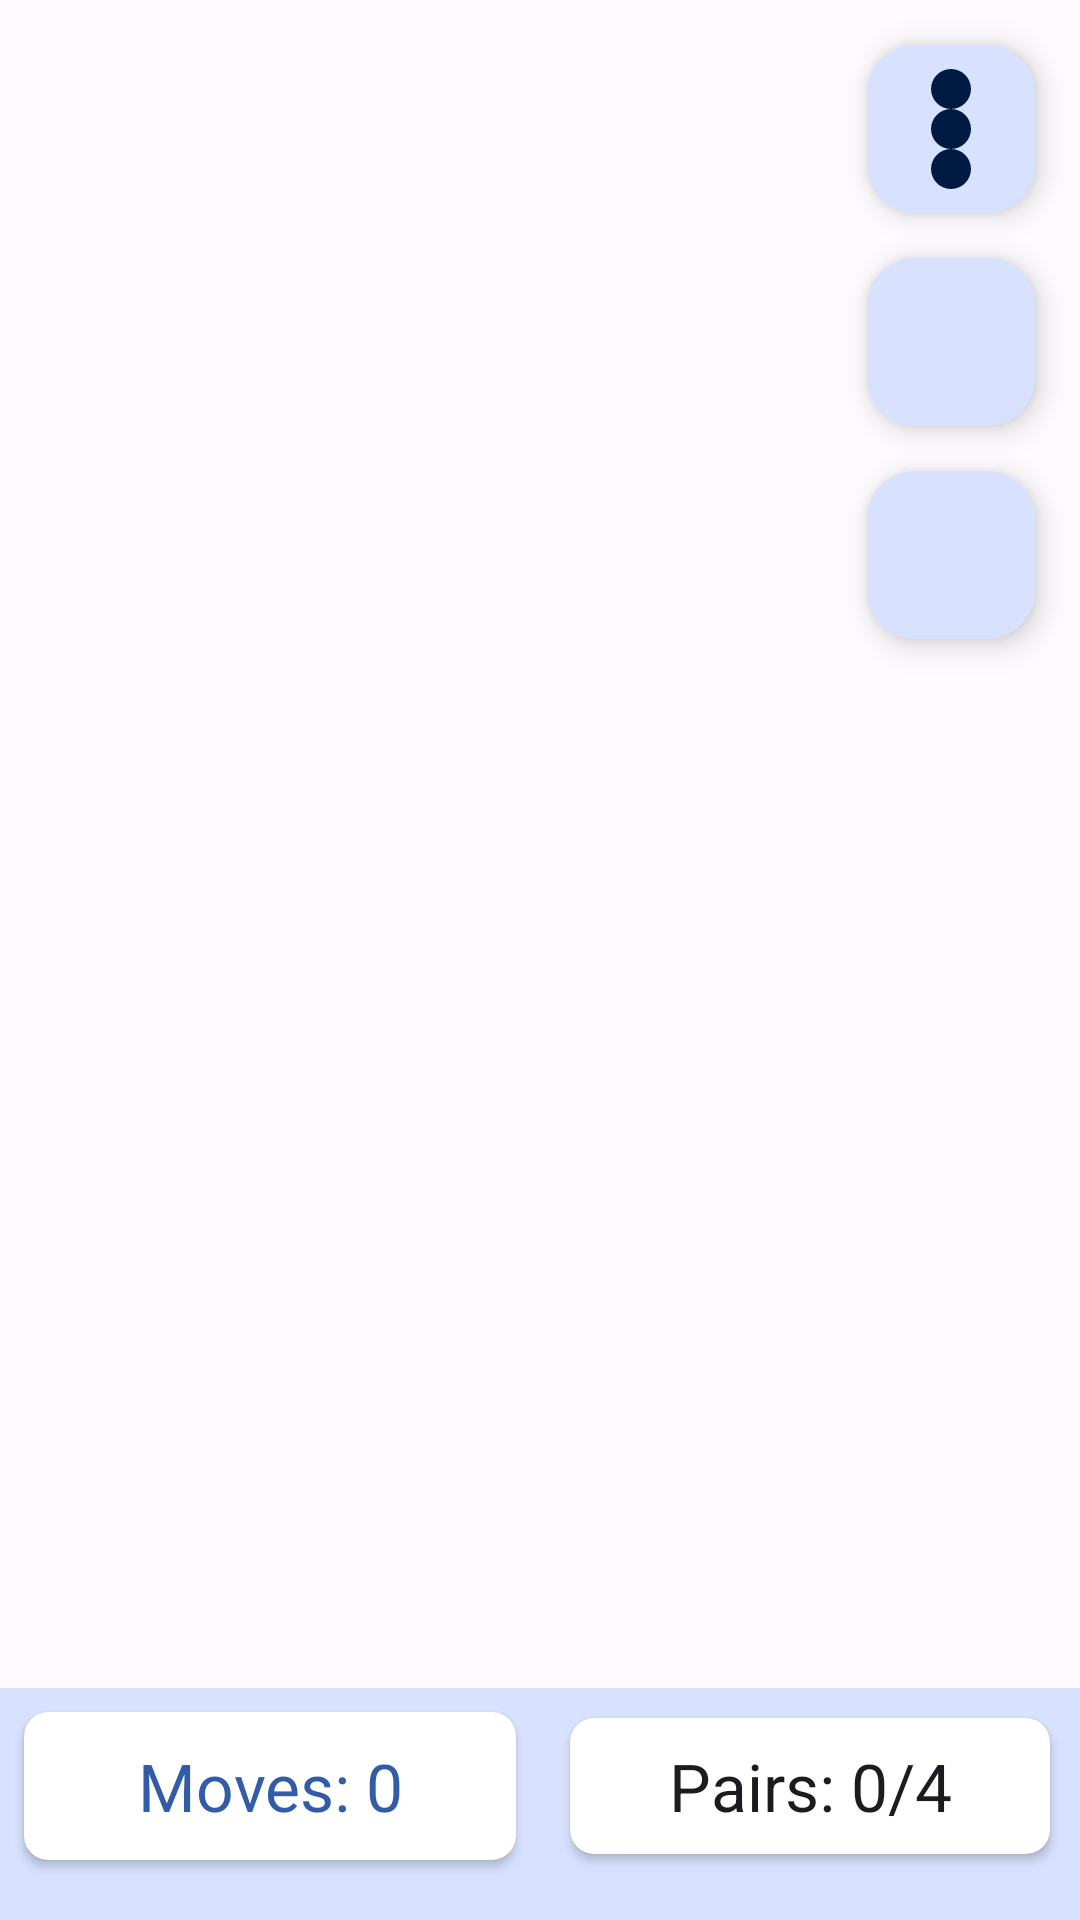

Icon click points for this 1080px×1920px phone screenshot, format (x,y):
Options: (951,129)
